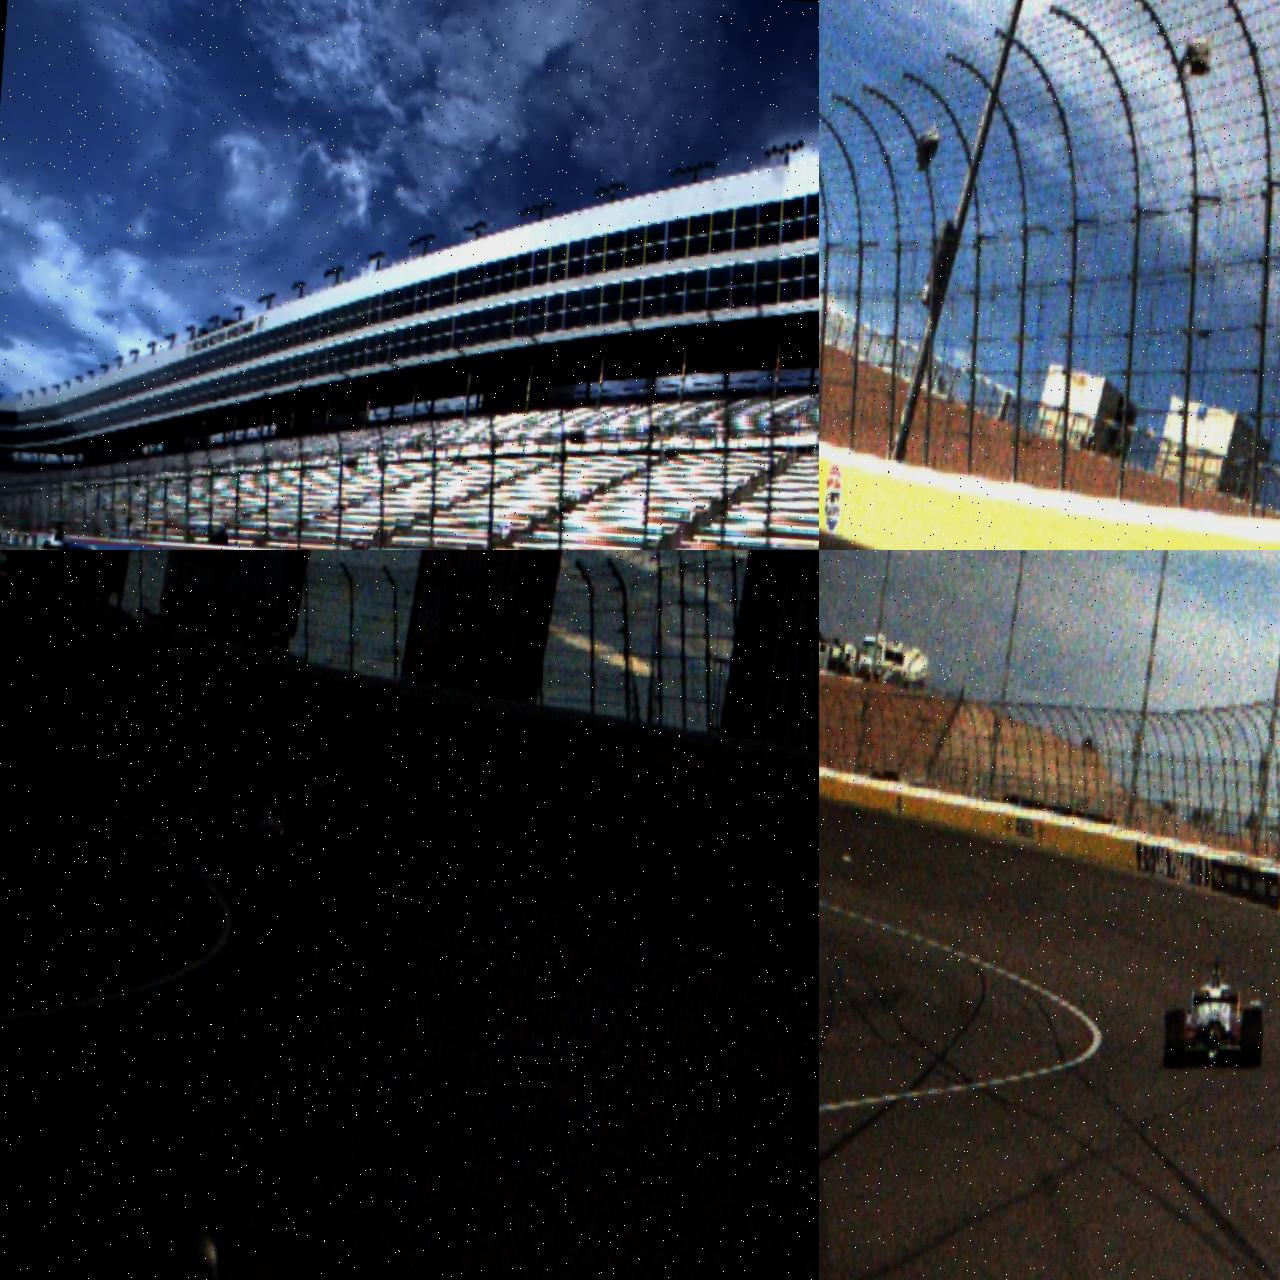AV: (1160, 955, 1268, 1077), (238, 787, 299, 863), (0, 516, 121, 550)
Wheel: (1160, 1009, 1187, 1071), (1239, 1007, 1265, 1069), (282, 821, 297, 856)
